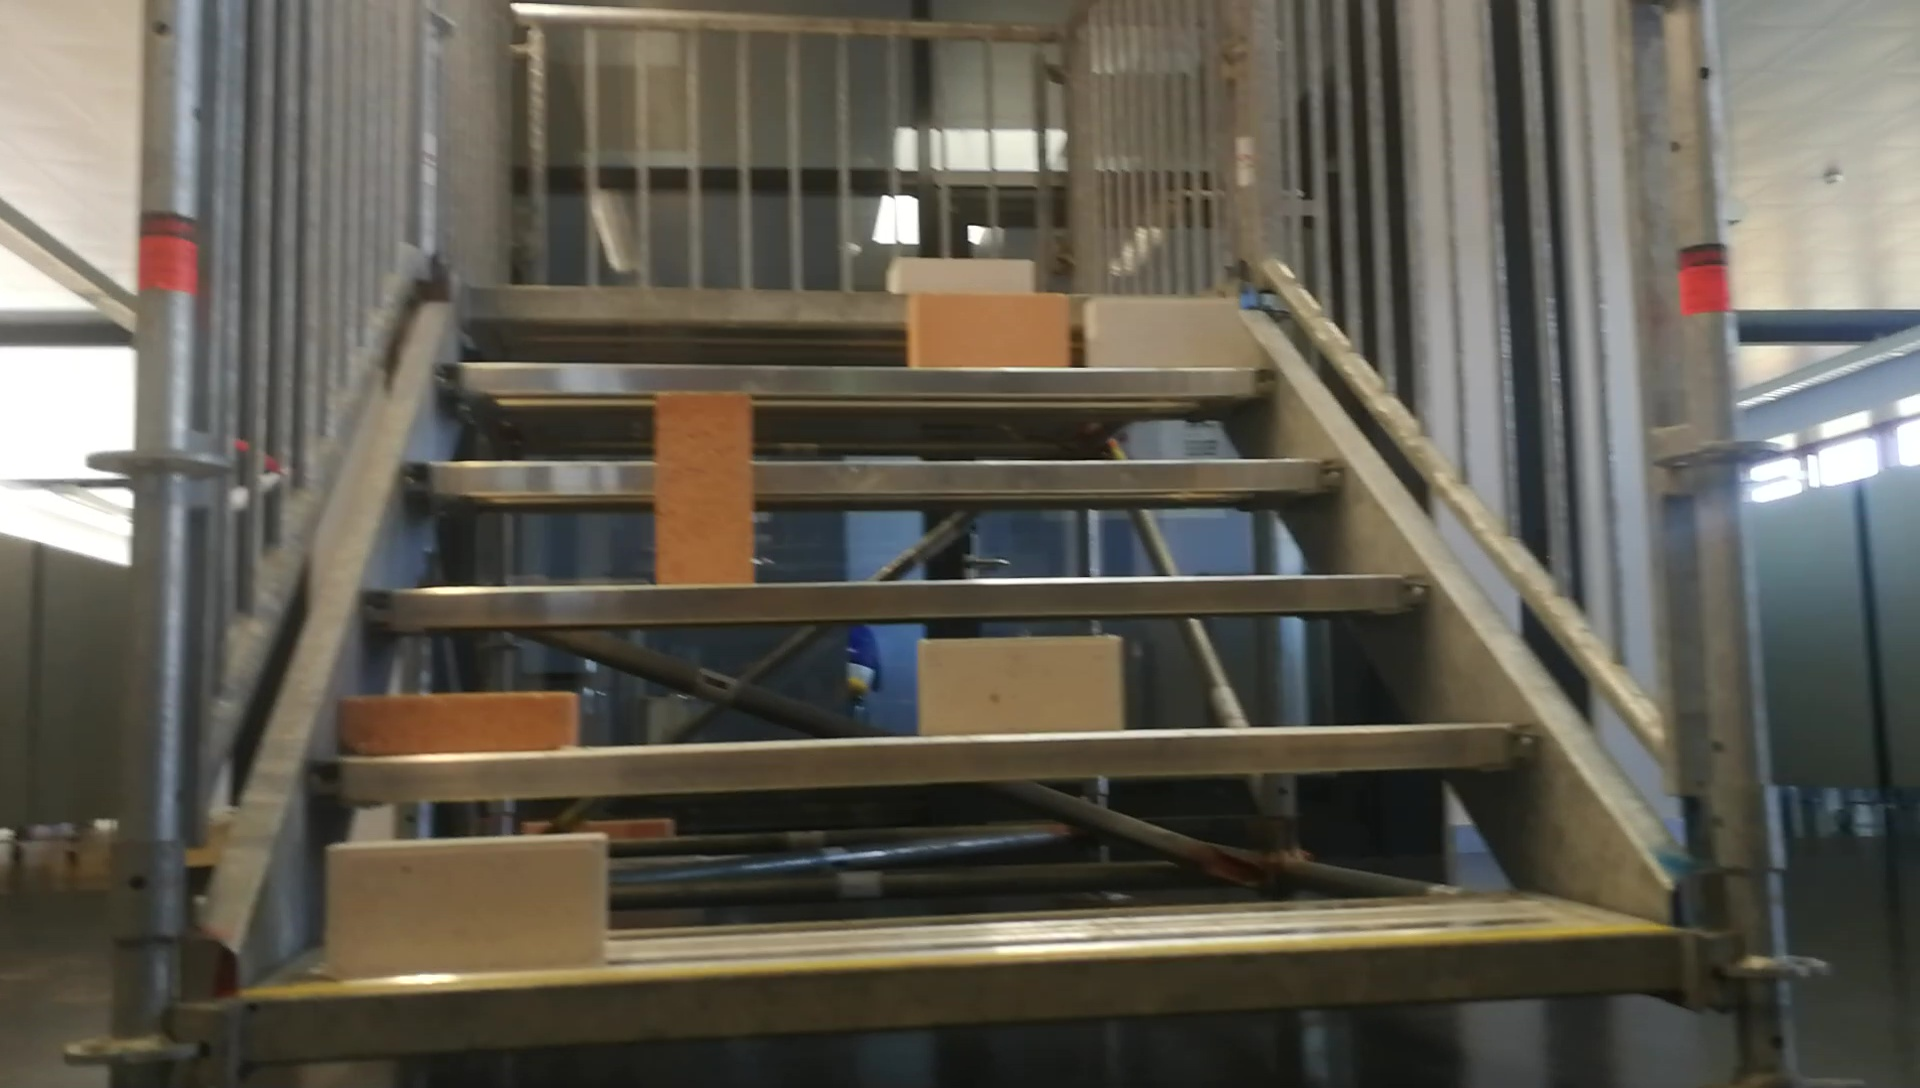brick: (332, 832, 605, 976), (655, 390, 753, 580), (919, 640, 1117, 731), (340, 690, 570, 753), (909, 295, 1064, 363), (1088, 295, 1240, 363), (887, 256, 1033, 291)
edge: (251, 932, 1664, 1056), (305, 721, 1534, 798), (360, 574, 1435, 622), (396, 458, 1352, 496), (429, 360, 1280, 398)
steps: (235, 249, 1677, 1072)
